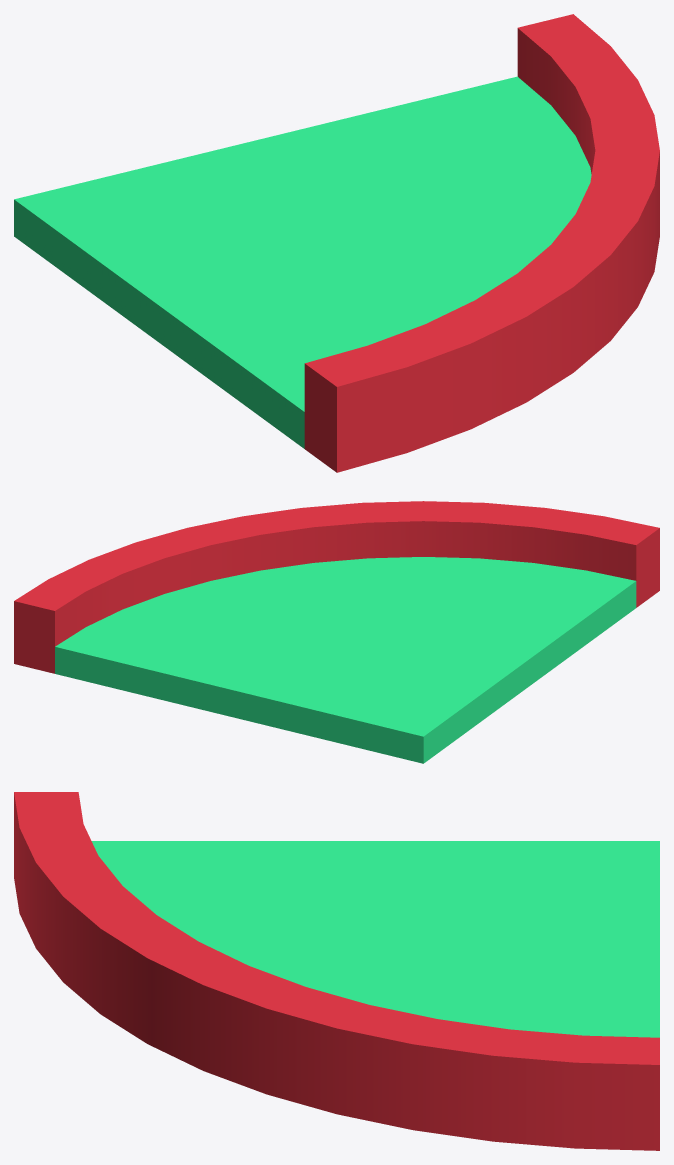
File: roundCornerC.fbx
3 renders of one model, top to bottom at view 1: azimuth 30°, elevation 25°; view 2: azimuth 150°, elevation 25°; view 3: azimuth 270°, elevation 25°, orthographic. The views are drawn at different scales.
Parts seen in each view (by area): view 1: roundCornerC; view 2: roundCornerC; view 3: roundCornerC.
Part boxes in pixels (x1=…): roundCornerC: x1=14, y1=14, x2=659, y2=472; roundCornerC: x1=14, y1=501, x2=659, y2=763; roundCornerC: x1=14, y1=792, x2=659, y2=1150.
Bounding box in the file's own units: 10 × 1.47 × 10.
